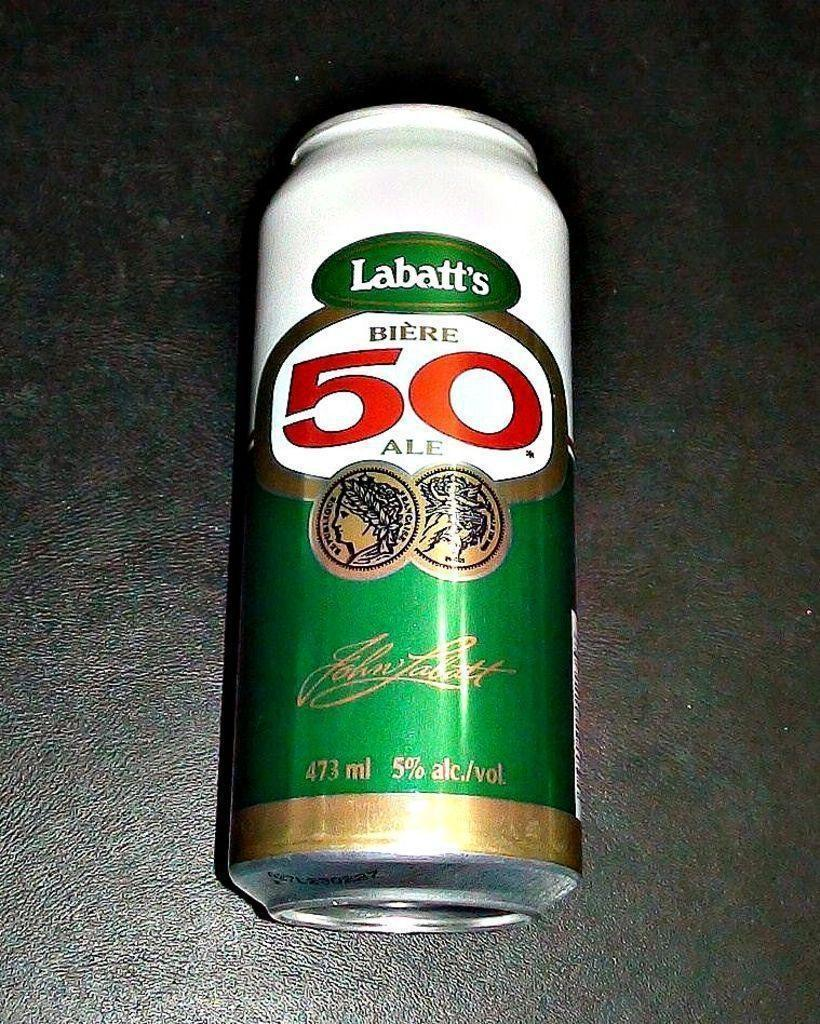tin can: (215, 101, 600, 939)
